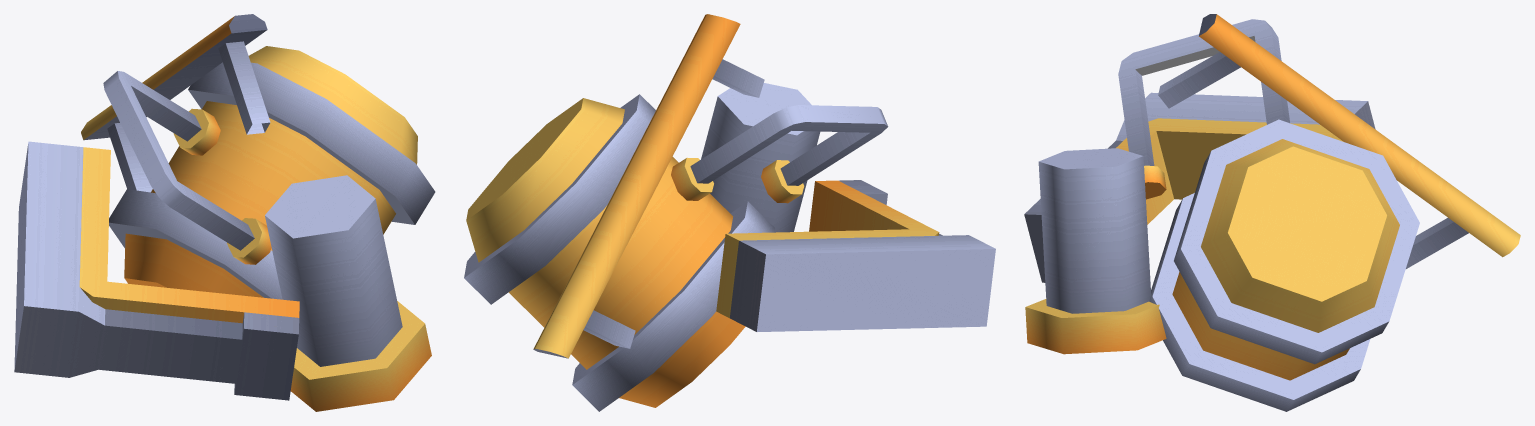
The model's file is debris.glb.
3 views of the same model, side by side, from view 1: azimuth 30°, elevation 25°; view 2: azimuth 150°, elevation 25°; view 3: azimuth 270°, elevation 25° (orthographic). The views are drawn at different scales.
Visible parts, largest first — view 1: wall-door-edge, container-wide, pipe-end-colored, rail-narrow, stairs-handrail-single; view 2: container-wide, wall-door-edge, stairs-handrail-single, rail-narrow, pipe-end-colored; view 3: container-wide, pipe-end-colored, stairs-handrail-single, wall-door-edge, rail-narrow.
Boxes of the visible parts, <box> form: wall-door-edge: <box>14,141,299,400</box>; container-wide: <box>109,46,435,299</box>; pipe-end-colored: <box>265,175,431,411</box>; rail-narrow: <box>103,71,271,264</box>; stairs-handrail-single: <box>81,14,270,192</box>; container-wide: <box>464,94,774,411</box>; wall-door-edge: <box>716,180,995,331</box>; stairs-handrail-single: <box>533,14,764,358</box>; rail-narrow: <box>671,105,888,203</box>; pipe-end-colored: <box>701,83,820,232</box>; container-wide: <box>1149,119,1419,411</box>; pipe-end-colored: <box>1025,148,1166,354</box>; stairs-handrail-single: <box>1158,14,1520,268</box>; wall-door-edge: <box>1024,92,1375,282</box>; rail-narrow: <box>1118,19,1289,199</box>.
Bounding box in the file's own units: 1.33 × 1.07 × 1.34.
5 materials, 5 textured.
